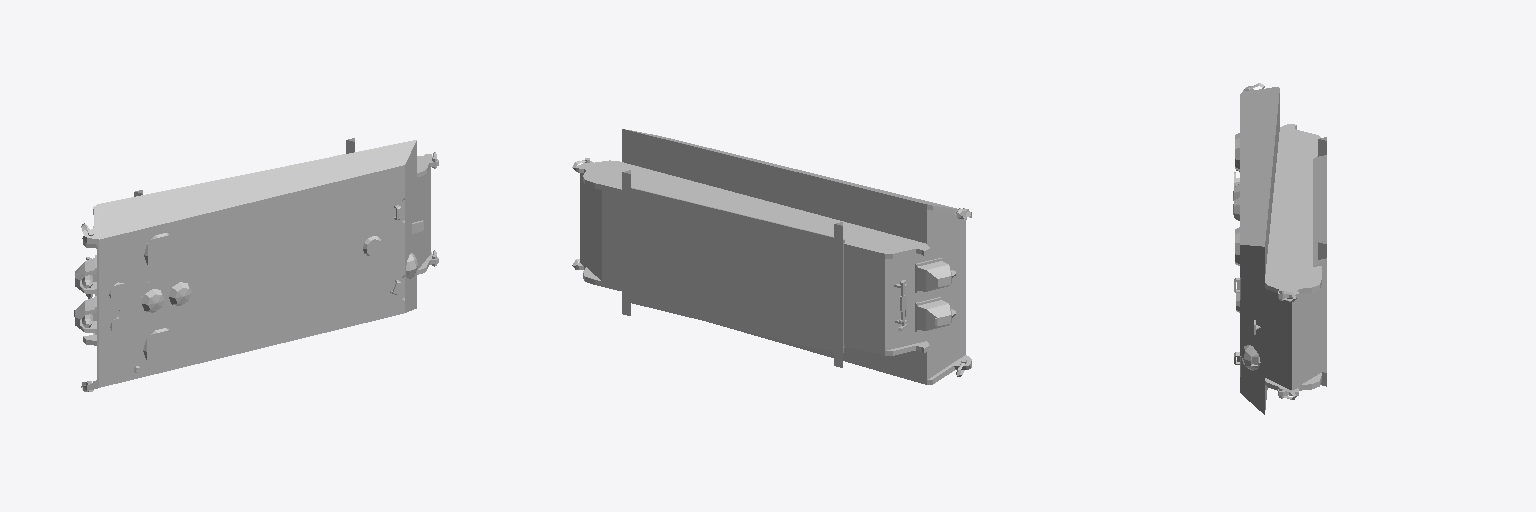
File: Body.acii.OBJ
The picture shows the model from 3 angles: view 1: azimuth 30°, elevation 25°; view 2: azimuth 150°, elevation 25°; view 3: azimuth 270°, elevation 25°; orthographic projection.
Size of the model in its own units: 7.56 by 3.48 by 1.65.